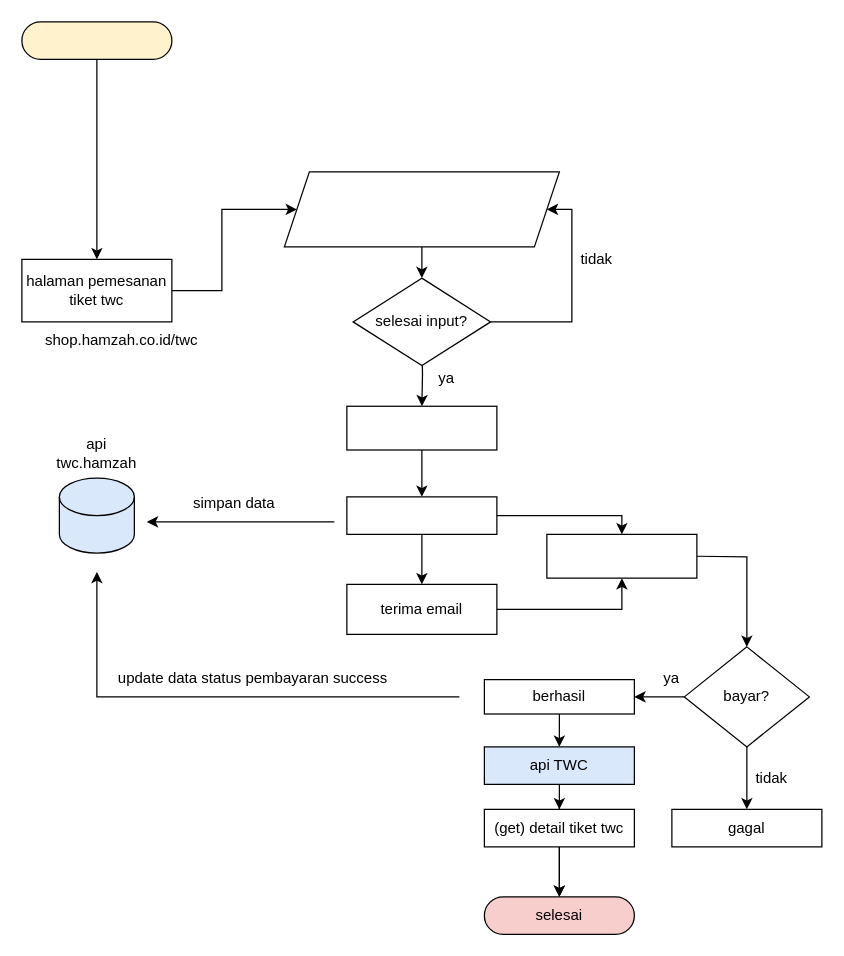
This 844x956 diagram has some shape labels left out. The shapes that lost their labels are listed below. From the top down, each one's centre as x and y in pixels, then its label:
At [96,40]: "mulai".
At [421,209]: "customer input detail tiket: email, destinasi, jenis tiket, jumlah tiket.".
At [421,427]: "pilih payment method".
At [421,515]: "submit".
At [621,555]: "detail invoice".
